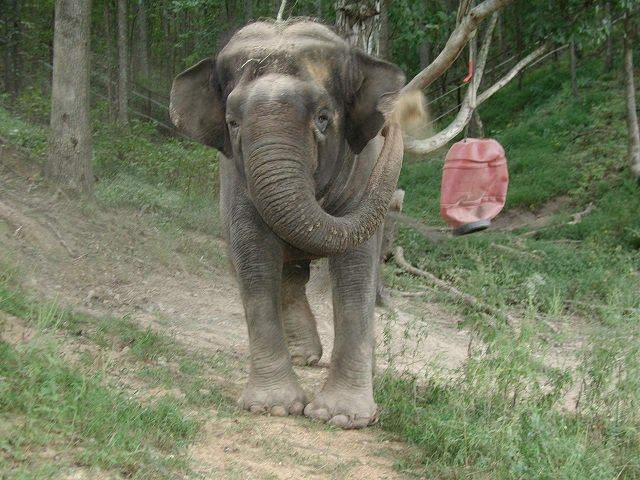elephant: (159, 9, 425, 440)
